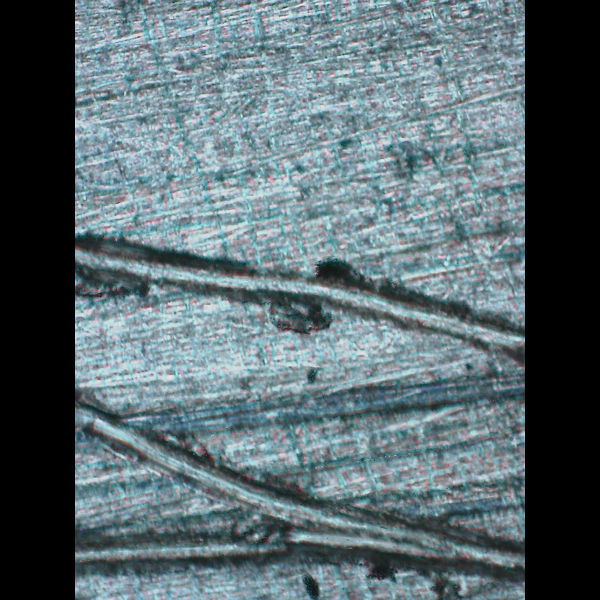d: (75, 394, 525, 580), (76, 224, 525, 364)
